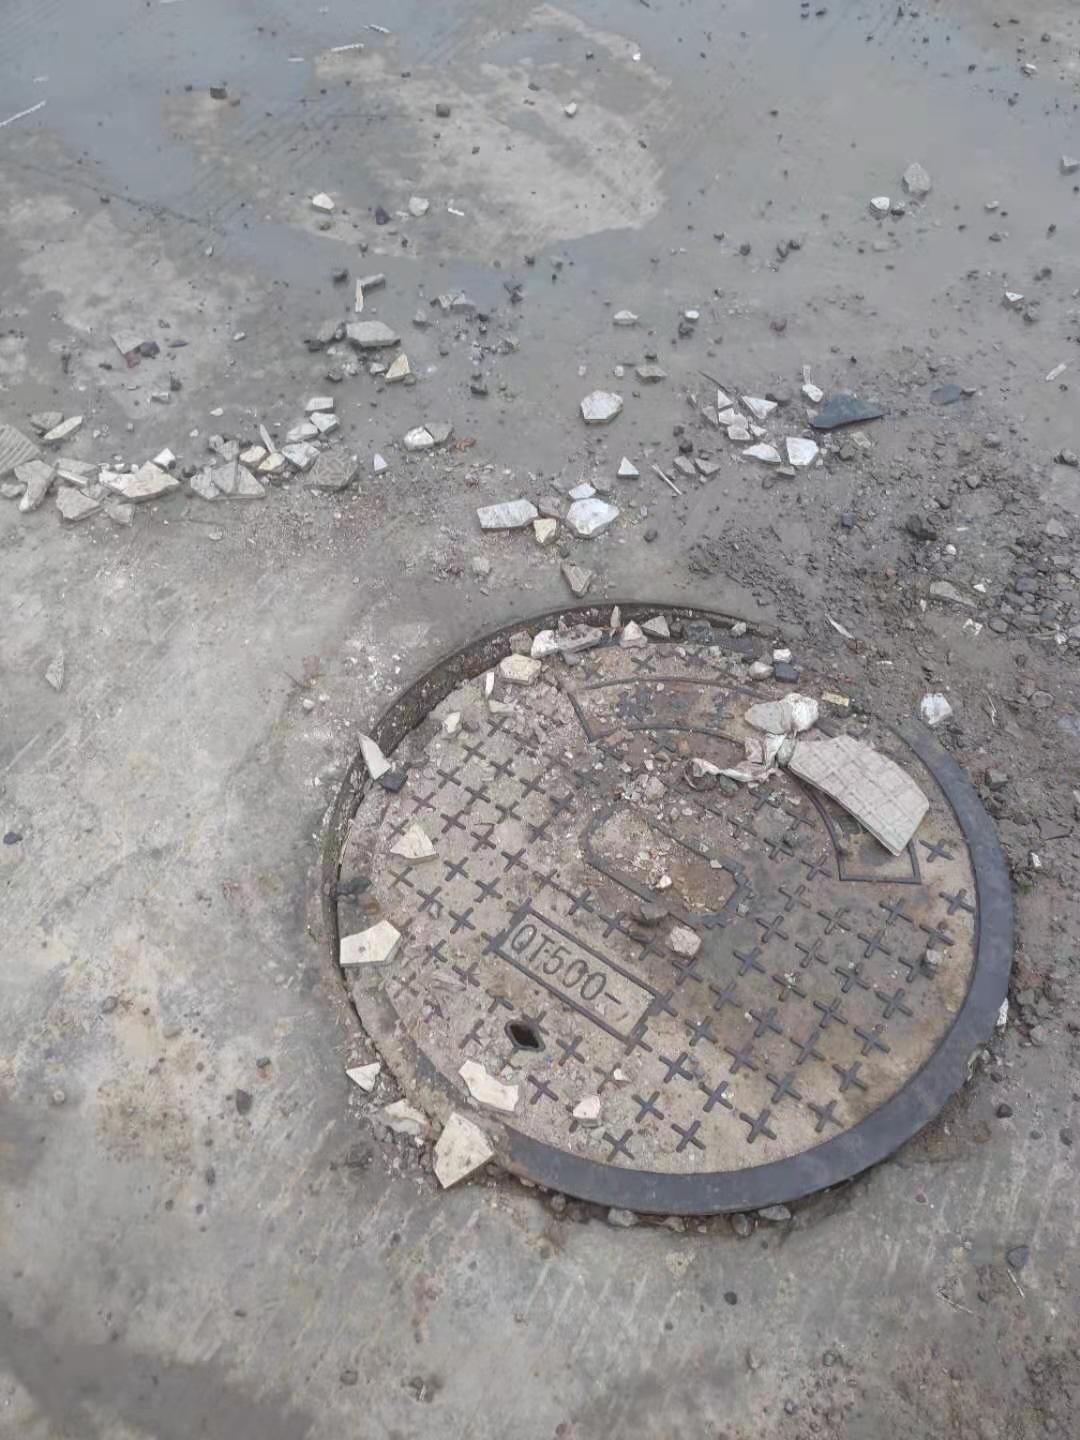uncovered: (322, 602, 1013, 1215)
